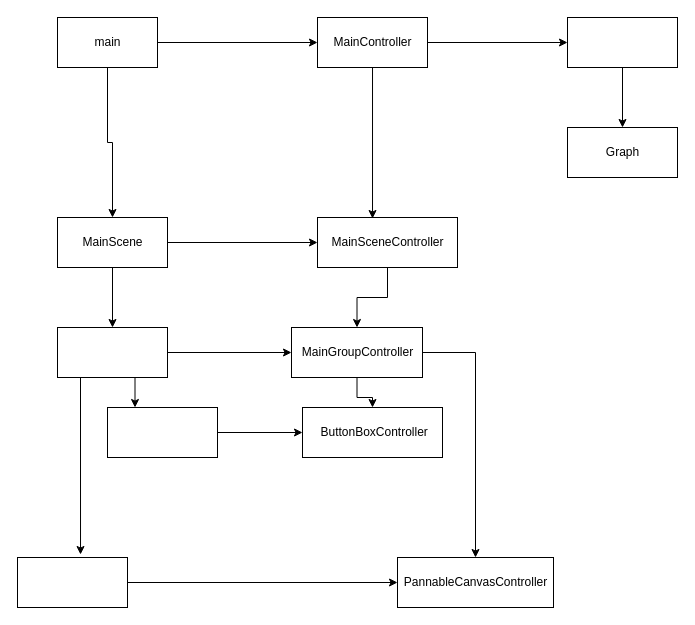
This 695x625 diagram has some shape labels left out. The shapes that lost their labels are listed below. From the top down, each one's centre as x and y in pixels, then its label:
[622,42]: Vertex/Instance
[112,352]: MainGroup
[162,432]: ButtonBox
[72,582]: PannableCanvas
